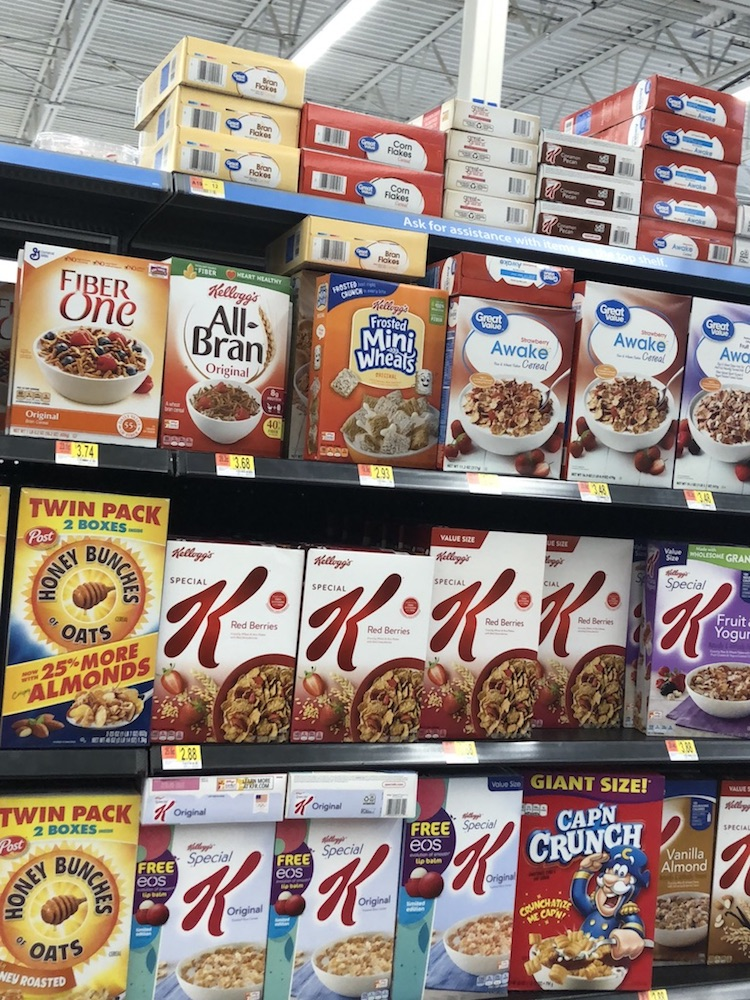Frosted Mini Original -9295869: (315, 270, 434, 470)
